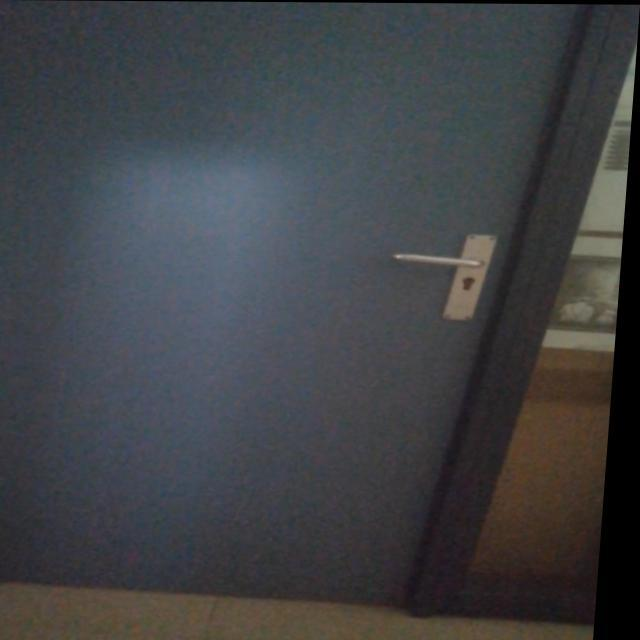door_handle: (391, 249, 497, 272)
